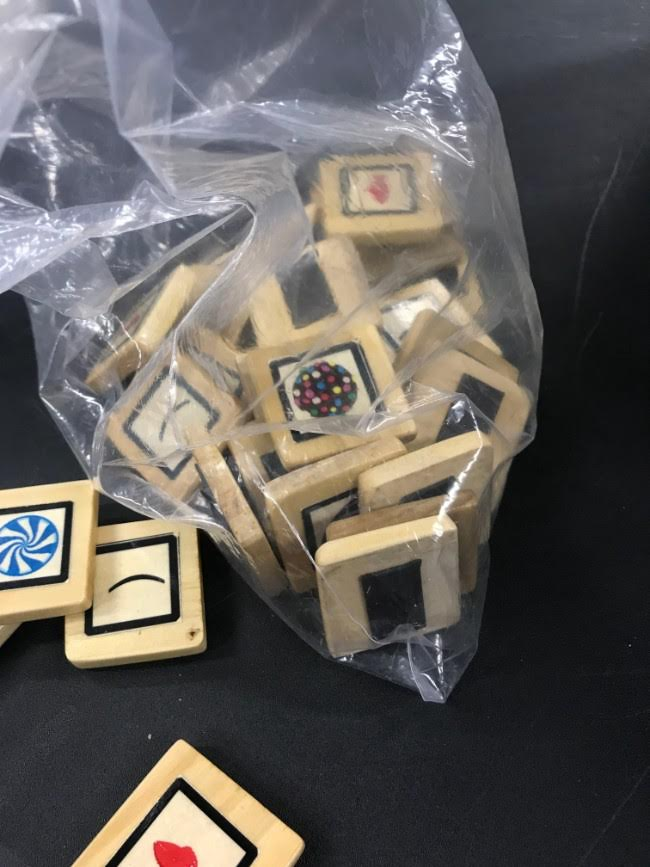cookie: (269, 340, 387, 443)
